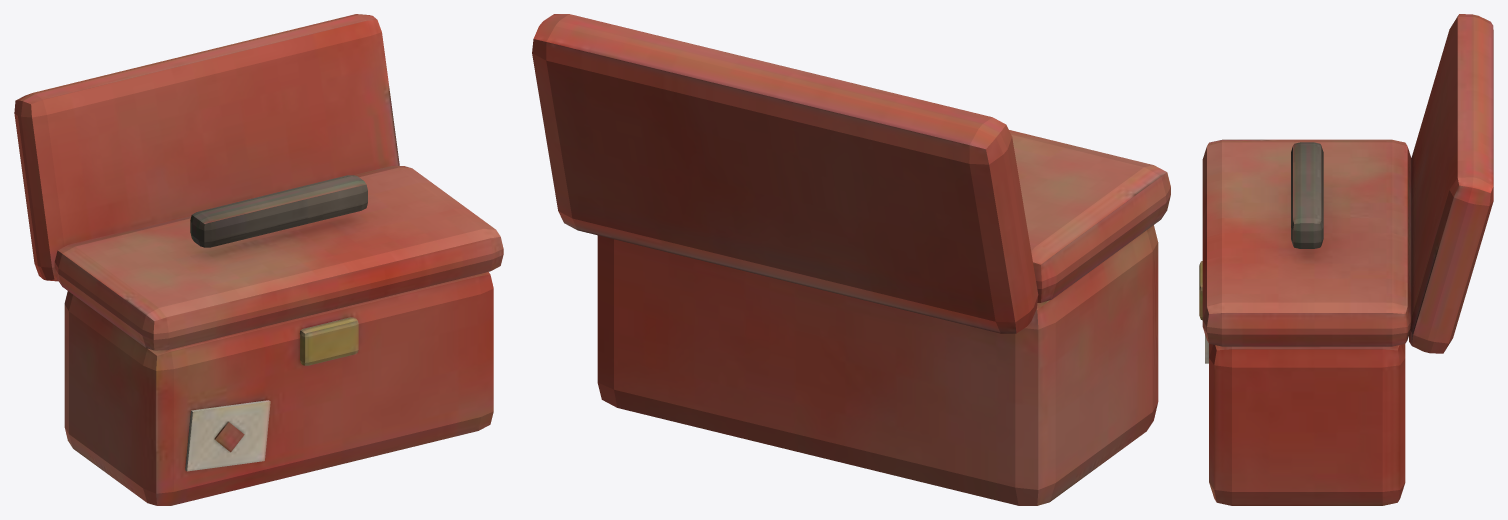
The model's file is source_red_toolbox.glb.
3 views of the same model, side by side, from view 1: azimuth 30°, elevation 25°; view 2: azimuth 150°, elevation 25°; view 3: azimuth 270°, elevation 25° (orthographic). The views are drawn at different scales.
Parts seen in each view (by area): view 1: RedToolbox_Mesh, Open_Mesh, Closed_Mesh; view 2: Open_Mesh, RedToolbox_Mesh, Closed_Mesh; view 3: Closed_Mesh, RedToolbox_Mesh, Open_Mesh.
Part boxes in pixels (x1,y1,x2,y2): RedToolbox_Mesh: (64,272,493,505); Open_Mesh: (14,14,399,281); Closed_Mesh: (54,166,503,350); Open_Mesh: (532,14,1038,333); RedToolbox_Mesh: (597,225,1158,505); Closed_Mesh: (1009,130,1170,302); Closed_Mesh: (1202,139,1411,346); RedToolbox_Mesh: (1199,261,1405,505); Open_Mesh: (1409,14,1493,353).
Bounding box in the file's own units: 0.64 × 0.5562 × 0.4499.
Materials: 3 (3 with a texture image).
